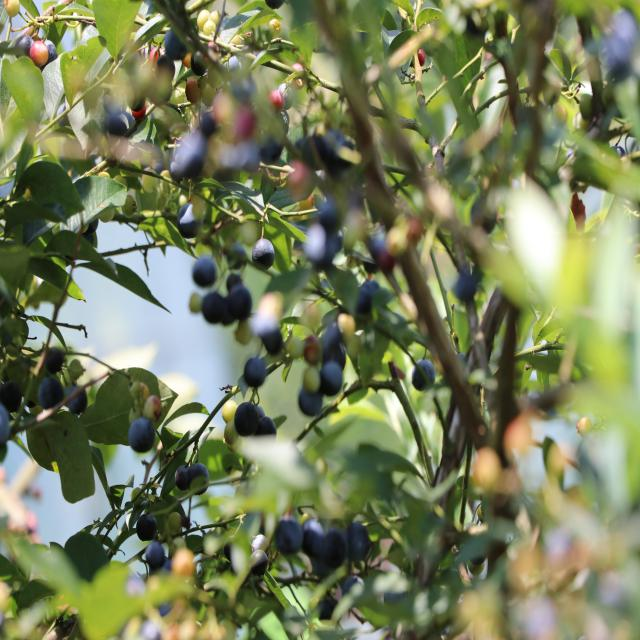blueberry: (128, 416, 156, 455), (276, 515, 302, 553), (233, 401, 260, 436), (37, 378, 65, 411), (250, 238, 278, 270), (192, 255, 218, 289), (411, 357, 436, 392), (300, 517, 323, 553), (321, 360, 342, 397), (298, 384, 322, 416), (187, 461, 210, 494), (323, 528, 345, 562), (162, 30, 187, 59), (243, 355, 267, 385), (65, 385, 88, 416), (230, 284, 252, 316), (135, 513, 158, 543), (154, 54, 176, 81), (257, 418, 277, 447), (144, 540, 165, 567), (203, 291, 223, 319), (108, 113, 130, 137), (191, 48, 208, 76), (127, 86, 146, 111), (249, 551, 268, 575), (174, 465, 191, 490), (251, 534, 270, 554), (223, 534, 235, 558)
blueberry-halfripe: (29, 40, 52, 68), (145, 394, 161, 420)
blueberry-unripe: (222, 419, 240, 445), (135, 382, 151, 404), (167, 511, 183, 533), (222, 398, 236, 422), (130, 487, 144, 507)
